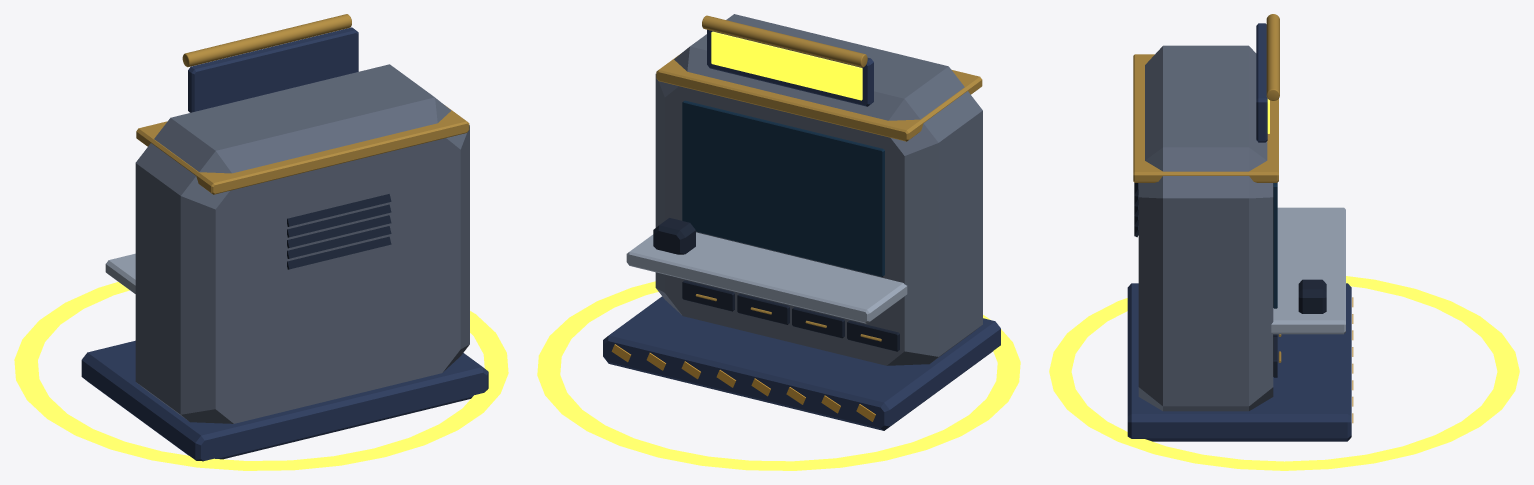
The model's file is shared_armory_kiosk.glb.
3 renders of one model, left to right at view 1: azimuth 30°, elevation 25°; view 2: azimuth 150°, elevation 25°; view 3: azimuth 270°, elevation 25°, orthographic. The views are drawn at different scales.
Visible parts, largest first — view 1: armory_cabinet, armory_plinth, armory_floor_ring, armory_sign, armory_cabinet_trim, armory_vents, armory_sign_lamp, armory_bench; view 2: armory_cabinet, armory_window, armory_plinth, armory_bench, armory_floor_ring, armory_cabinet_trim, armory_sign_face, armory_sign_lamp, armory_sign, armory_hazard, armory_bench_vise, armory_drawer1 (+3 smaller); view 3: armory_cabinet, armory_plinth, armory_floor_ring, armory_bench, armory_cabinet_trim, armory_sign, armory_sign_lamp, armory_bench_vise, armory_window.
Part boxes in pixels (<box>): armory_cabinet: <box>135,64,469,423</box>; armory_plinth: <box>81,340,488,461</box>; armory_floor_ring: <box>14,282,508,470</box>; armory_sign: <box>188,27,358,112</box>; armory_cabinet_trim: <box>136,105,469,194</box>; armory_vents: <box>287,194,391,269</box>; armory_sign_lamp: <box>182,14,351,67</box>; armory_bench: <box>105,253,135,293</box>; armory_cabinet: <box>655,14,982,365</box>; armory_window: <box>682,100,884,276</box>; armory_plinth: <box>603,296,1000,430</box>; armory_bench: <box>626,232,907,323</box>; armory_floor_ring: <box>537,281,1020,470</box>; armory_cabinet_trim: <box>656,53,982,141</box>; armory_sign_face: <box>711,31,862,100</box>; armory_sign_lamp: <box>702,15,867,67</box>; armory_sign: <box>707,29,873,106</box>; armory_hazard: <box>611,344,875,421</box>; armory_bench_vise: <box>653,218,695,254</box>; armory_drawer1: <box>792,307,844,338</box>; armory_cabinet: <box>1138,45,1273,411</box>; armory_plinth: <box>1127,283,1351,441</box>; armory_floor_ring: <box>1049,276,1519,470</box>; armory_bench: <box>1271,207,1345,334</box>; armory_cabinet_trim: <box>1133,54,1278,182</box>; armory_sign: <box>1256,23,1267,142</box>; armory_sign_lamp: <box>1266,14,1279,101</box>; armory_bench_vise: <box>1298,279,1326,313</box>; armory_window: <box>1273,183,1277,308</box>.
Bounding box in the file's own units: 4.2 × 3.2 × 4.2.
